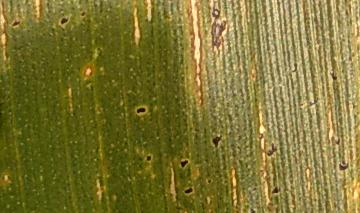tarspot: (209, 1, 228, 57), (266, 142, 278, 158), (212, 134, 223, 148), (338, 159, 349, 172), (59, 15, 70, 27), (329, 68, 338, 82), (291, 61, 299, 74), (179, 159, 190, 168), (10, 19, 21, 28), (135, 107, 147, 115), (270, 185, 279, 195), (333, 136, 341, 147), (183, 187, 193, 195), (206, 177, 213, 185), (145, 155, 152, 162), (79, 10, 86, 17), (248, 207, 256, 213), (167, 135, 172, 143), (312, 197, 317, 203)
